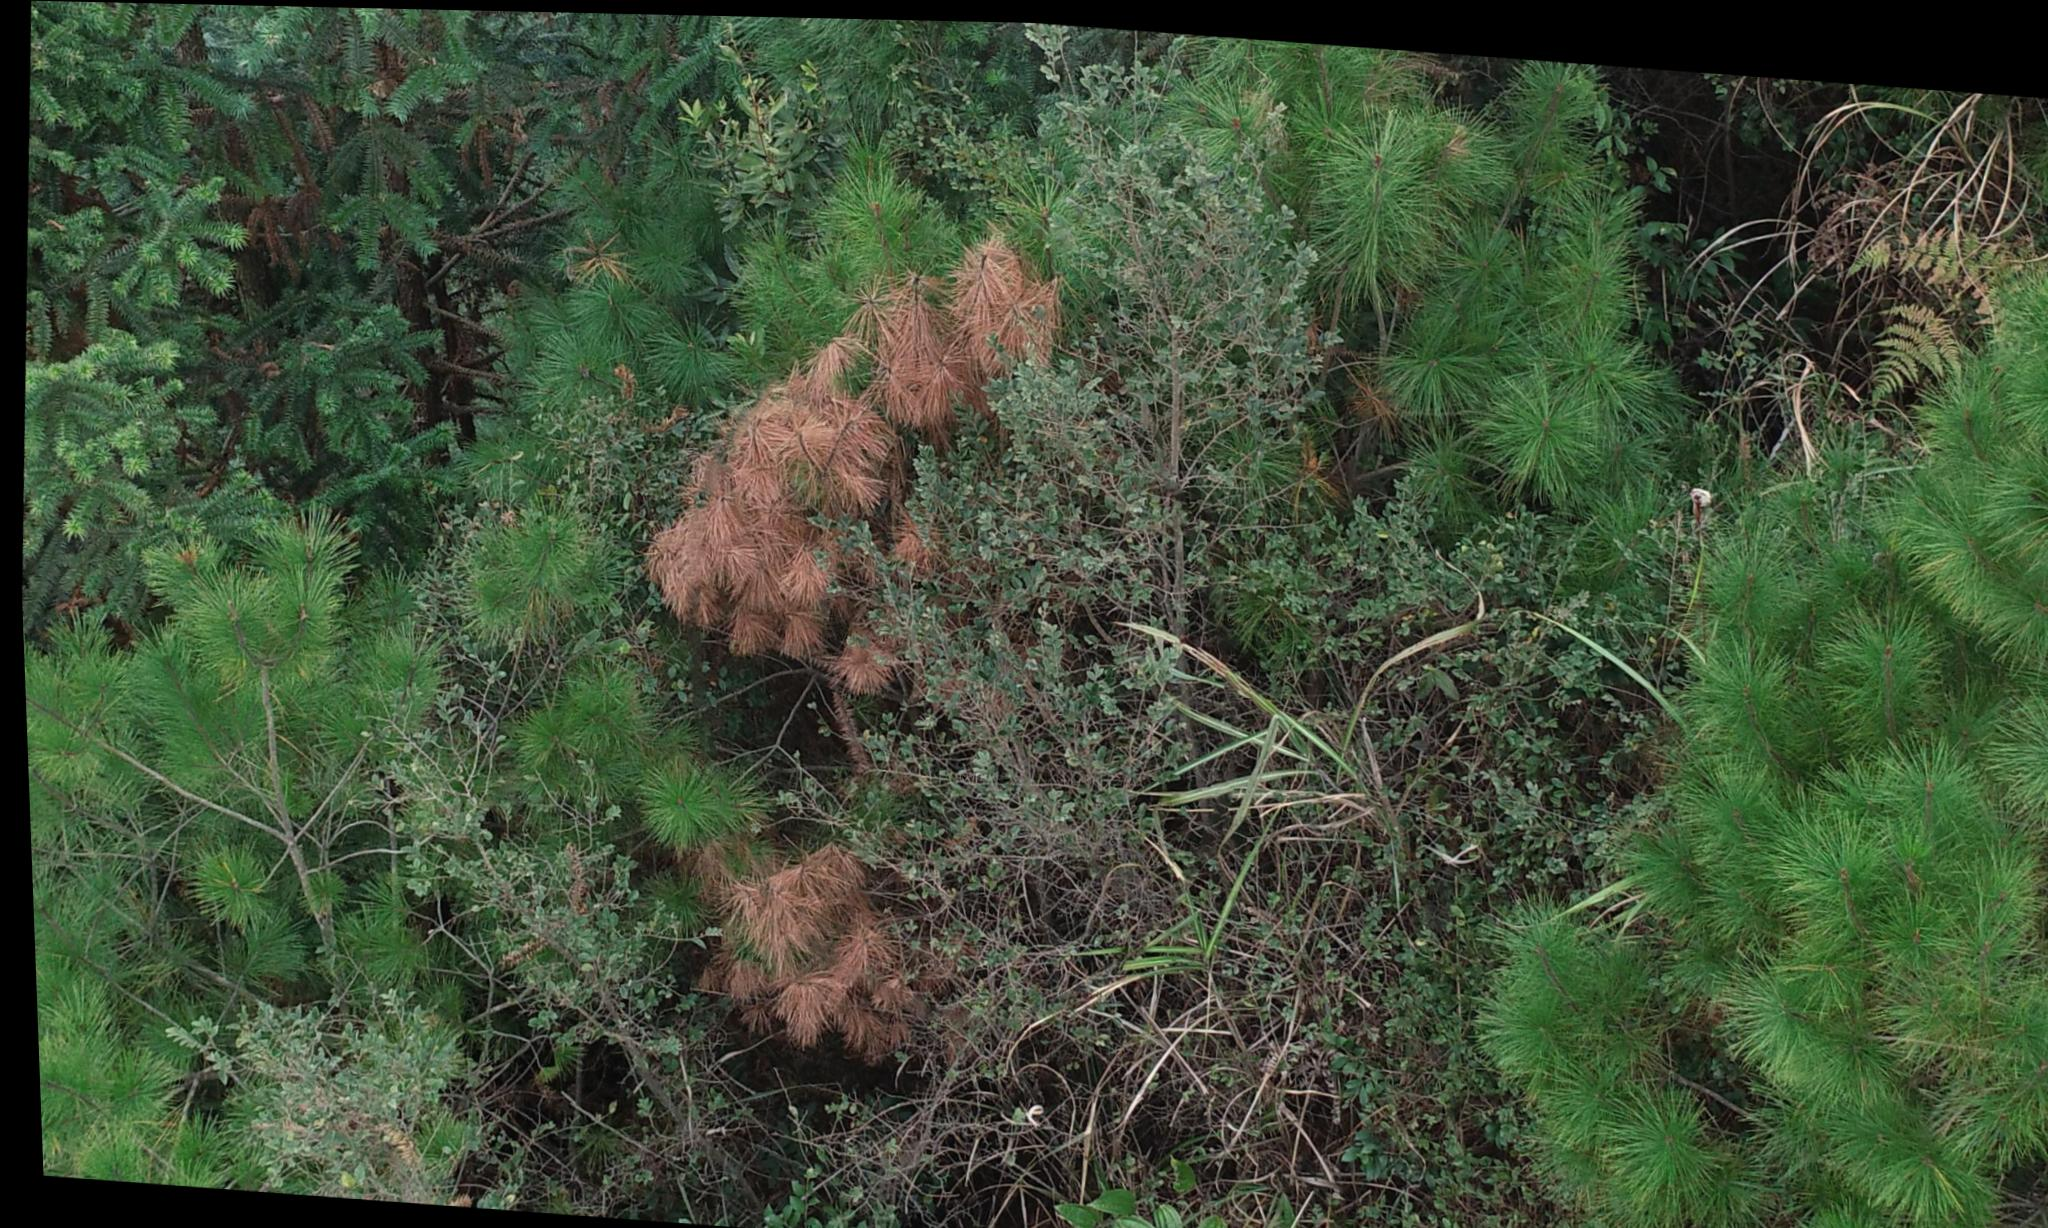heavy: (634, 221, 1086, 696), (699, 823, 941, 1072)
